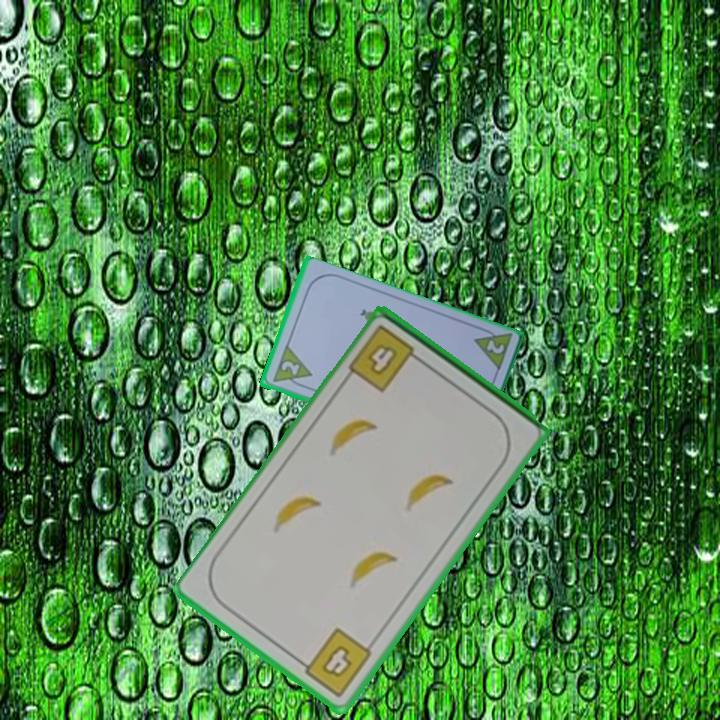2p: (469, 323, 514, 375), (268, 343, 314, 392)
4b: (293, 624, 375, 701), (344, 321, 427, 396)
